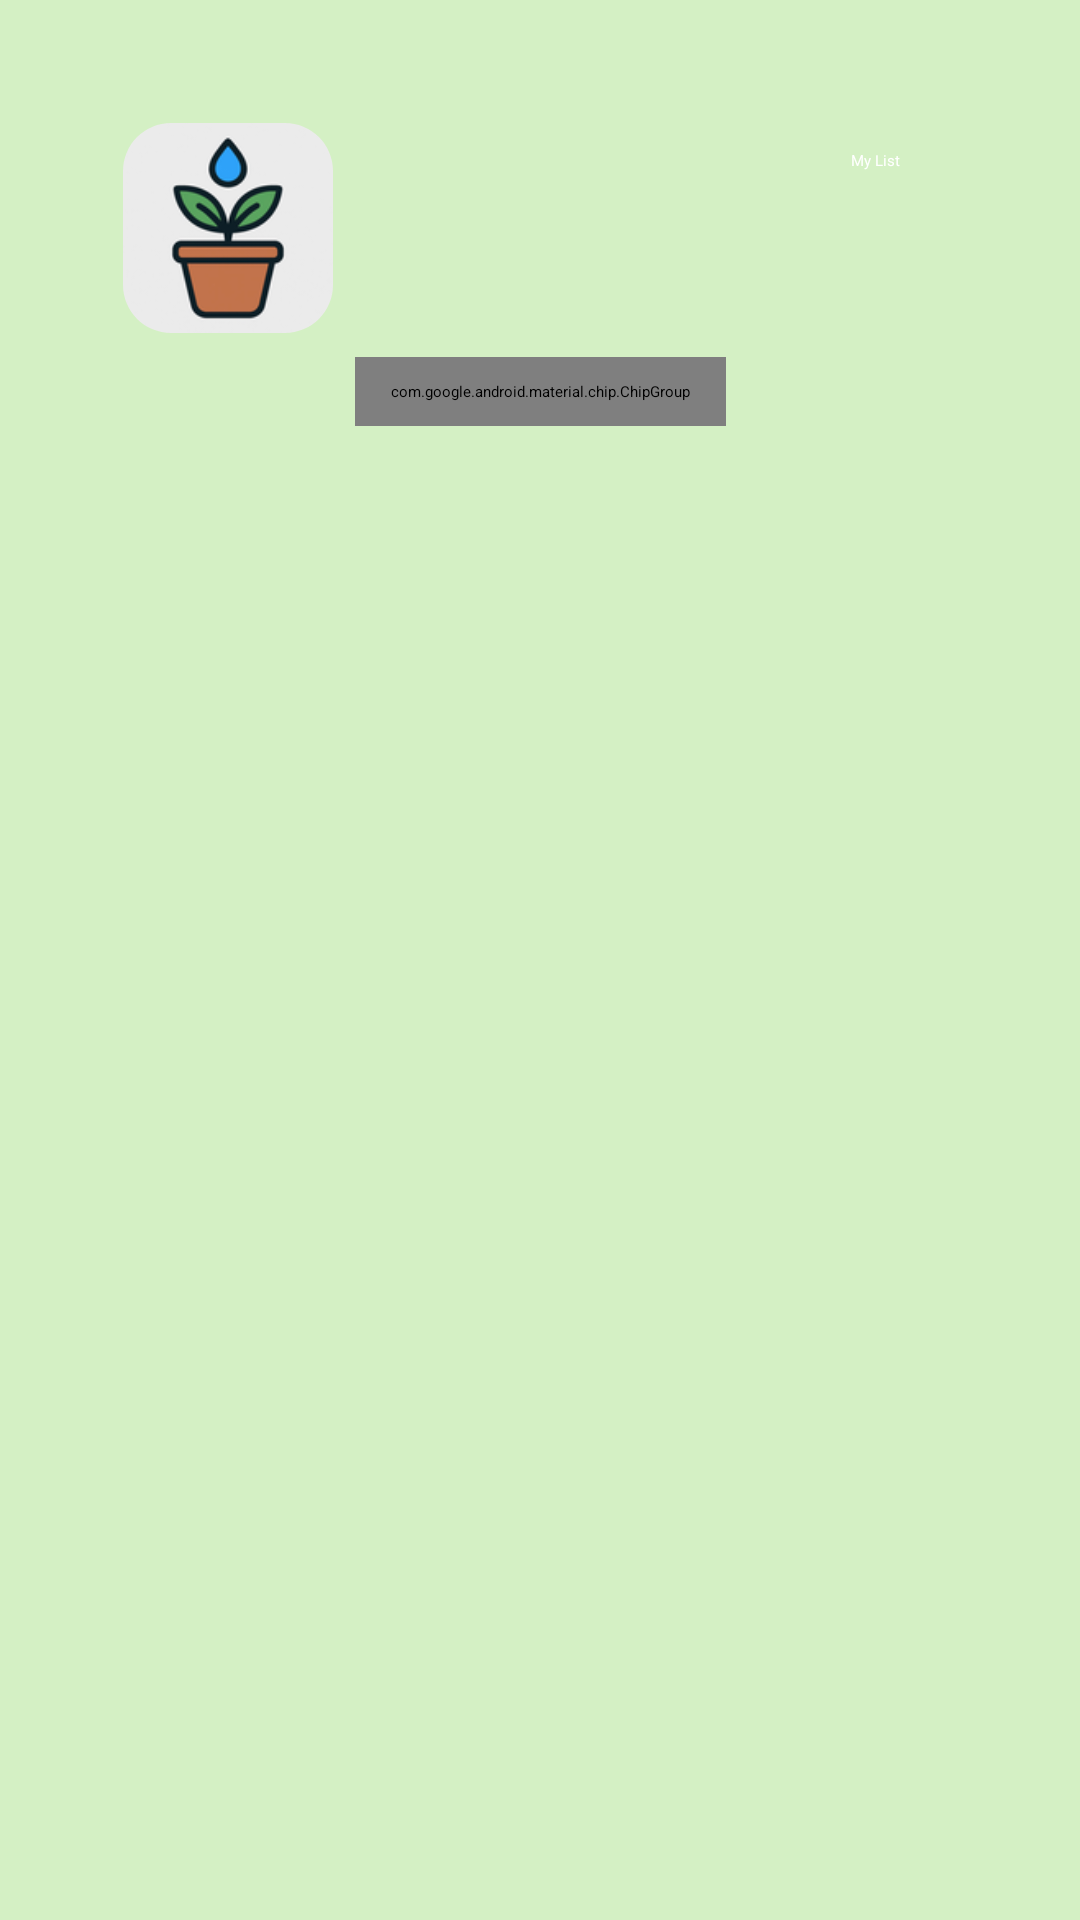

Screen size 1080x1920. Icon name, then its box in pixels as region(x1, y1, x2, y2):
plantpal: region(123, 123, 333, 333)
